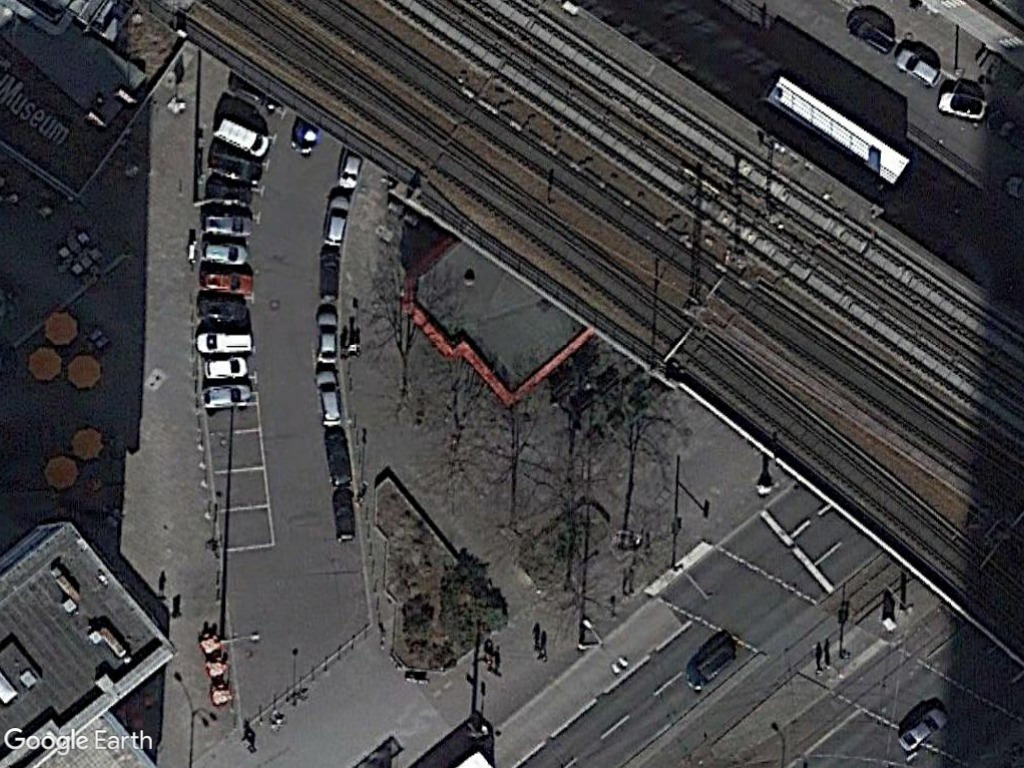car: (890, 707, 952, 760), (891, 44, 948, 89), (188, 325, 256, 359), (312, 363, 346, 429), (936, 88, 993, 125), (319, 189, 354, 248), (312, 304, 343, 367), (192, 239, 253, 270), (200, 379, 258, 411), (198, 210, 258, 240), (197, 353, 254, 379), (335, 151, 364, 192)
longvehicle: (761, 72, 912, 188)
van: (208, 113, 273, 158)
